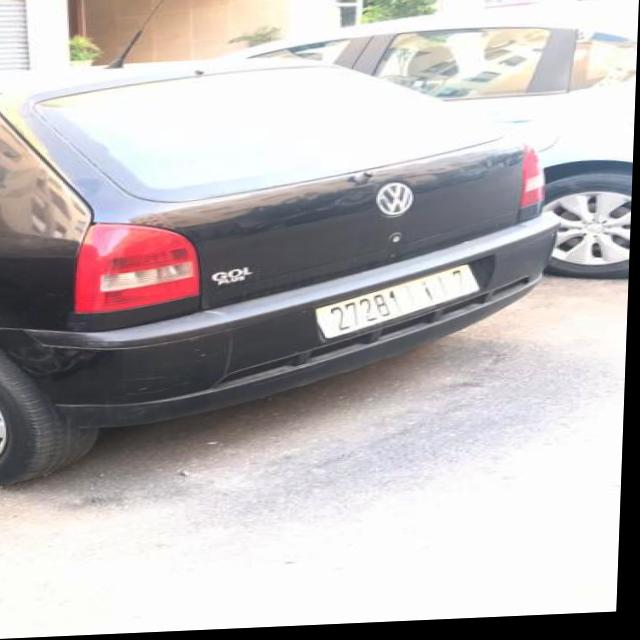License-Plate: (317, 270, 482, 341)
